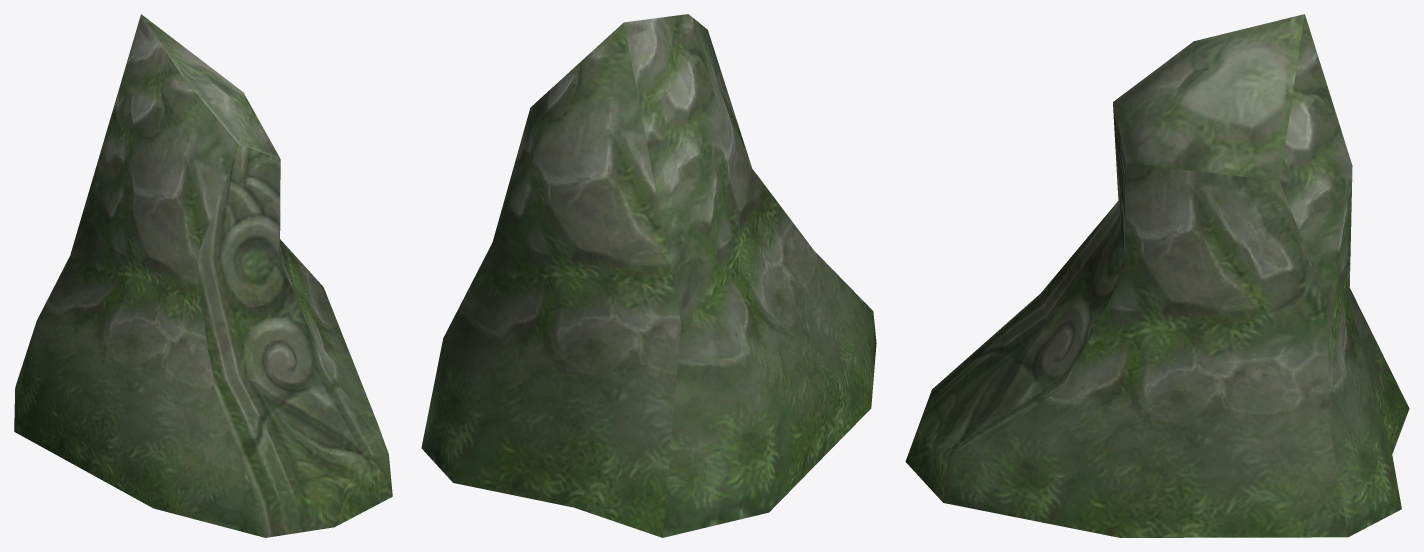
Rendered from 1005_Item_shibei_2.FBX.
3 views of the same model, side by side, from view 1: azimuth 30°, elevation 25°; view 2: azimuth 150°, elevation 25°; view 3: azimuth 270°, elevation 25° (orthographic). The views are drawn at different scales.
Visible parts, largest first — view 1: 1005_Item_shibei_2; view 2: 1005_Item_shibei_2; view 3: 1005_Item_shibei_2.
Part boxes in pixels (x1,y1,x2,y2): 1005_Item_shibei_2: [14, 14, 392, 537]; 1005_Item_shibei_2: [421, 14, 876, 537]; 1005_Item_shibei_2: [905, 14, 1409, 537].
Size of the model in its own units: 247 by 340 by 326.
Materials: 1 (1 with a texture image).
